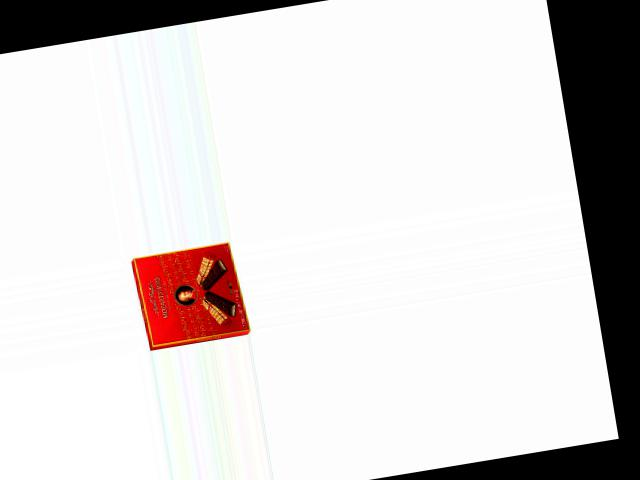chocolate: (132, 238, 253, 351)
